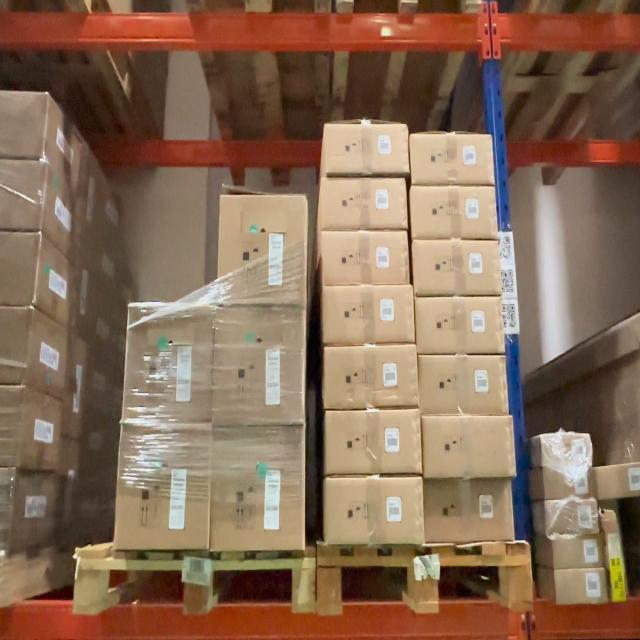box: (121, 428, 209, 549), (214, 431, 304, 548), (214, 310, 305, 421), (127, 310, 211, 422), (221, 197, 307, 303), (324, 479, 423, 542), (327, 412, 424, 475), (324, 347, 420, 407), (424, 417, 512, 477), (426, 481, 513, 540), (326, 287, 414, 344), (421, 356, 506, 412), (418, 298, 504, 352), (324, 233, 410, 284), (321, 178, 408, 228), (417, 242, 500, 294), (413, 189, 496, 239), (326, 126, 409, 176), (414, 134, 494, 182), (1, 307, 27, 383), (606, 502, 626, 598), (556, 570, 608, 604), (549, 501, 601, 534), (554, 537, 604, 571), (546, 469, 596, 500), (596, 463, 640, 498), (544, 435, 592, 467), (0, 389, 19, 466), (0, 470, 13, 552)
